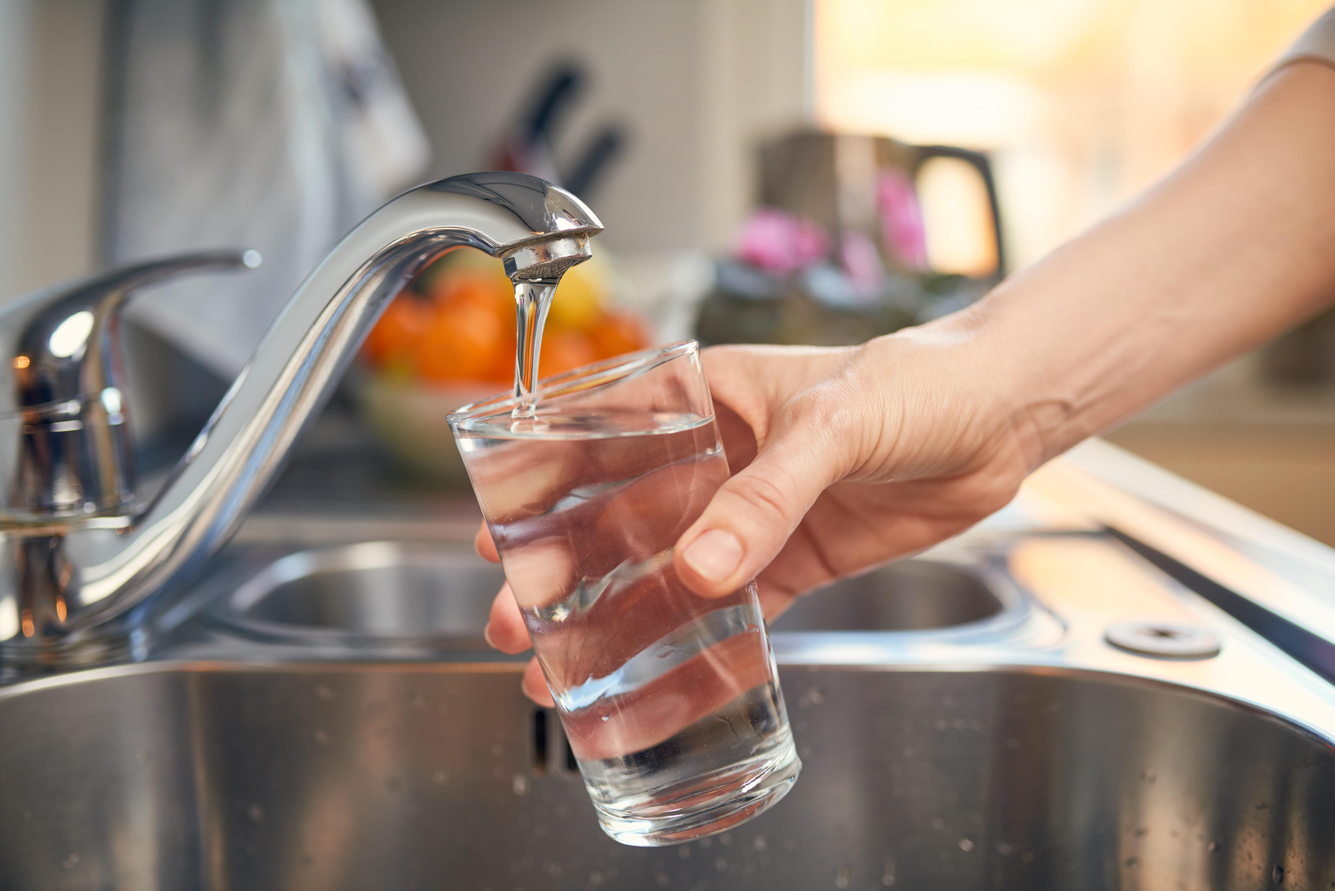glass-normal: (445, 343, 804, 849)
